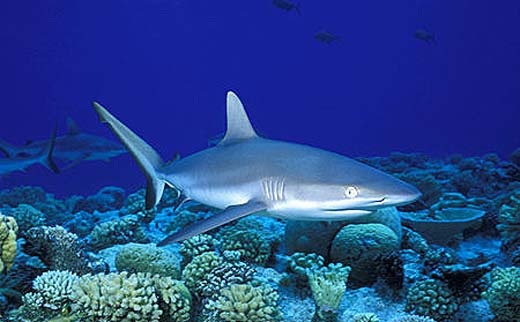Carcharhinus_amblyrhynchos: (90, 90, 426, 246)
